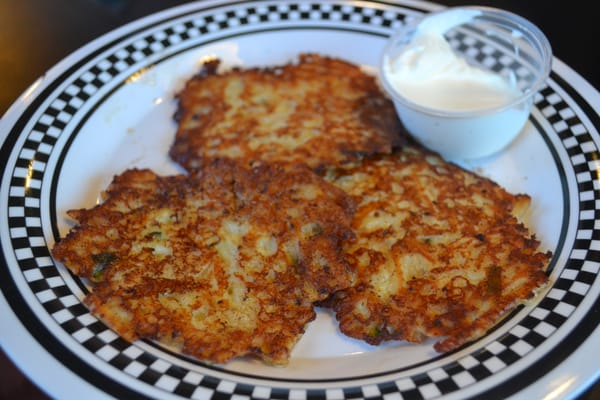sushi: (378, 6, 553, 164)
